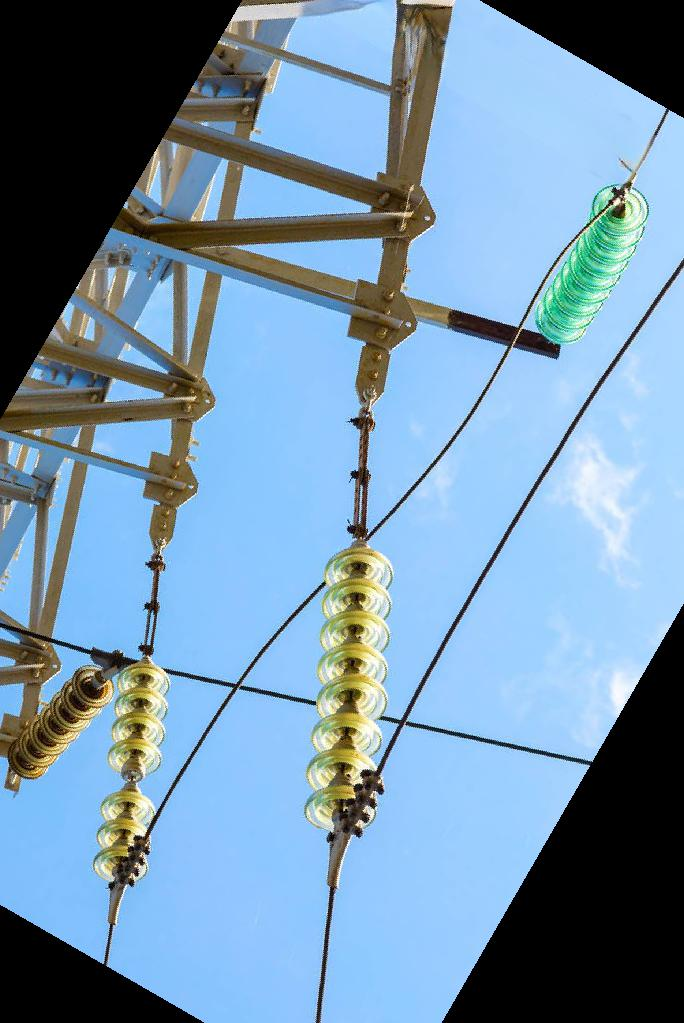insulator: (297, 537, 398, 842), (530, 178, 650, 353), (87, 653, 175, 891), (5, 658, 120, 784)
insulator_stringdrop: (92, 734, 166, 824)
